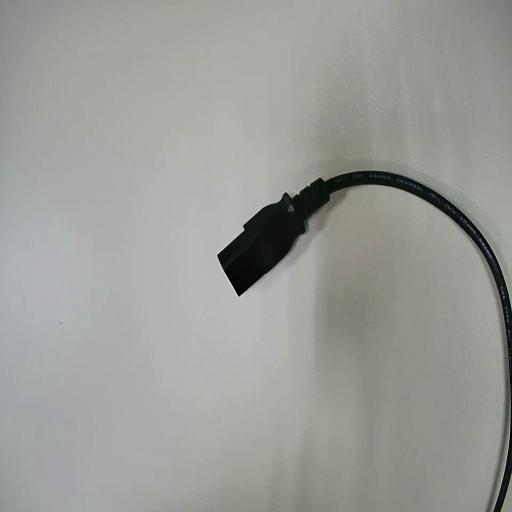wire: (219, 171, 511, 387)
